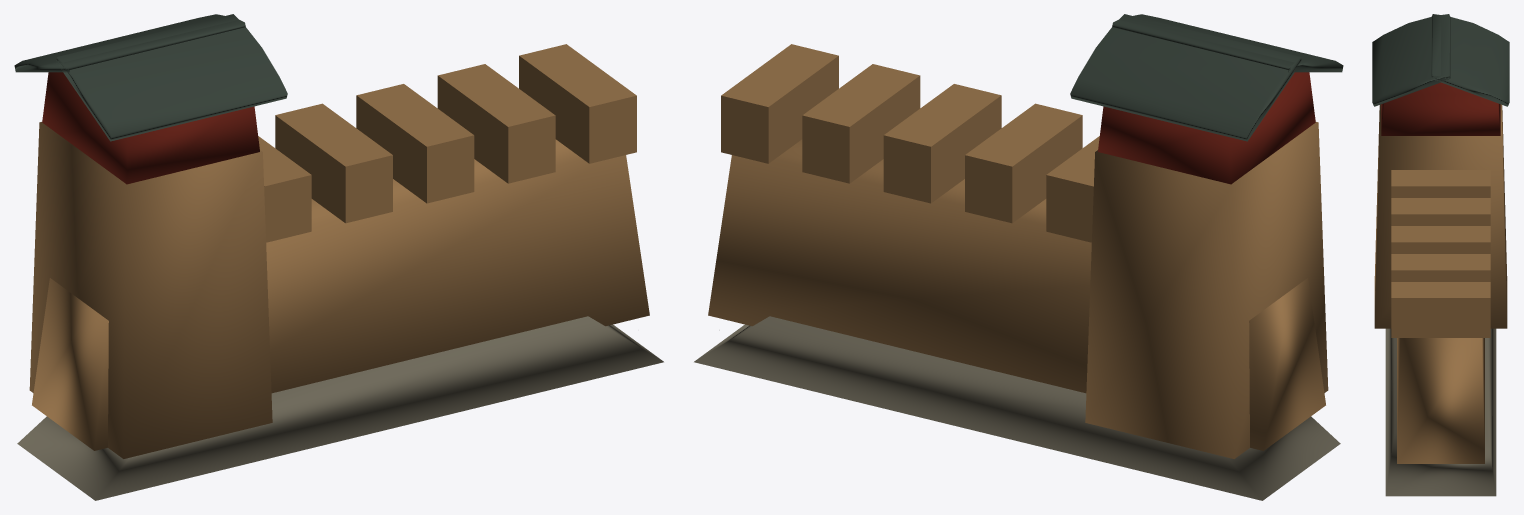
Rendered from R30_HAN_CITY_WALL_PRODUCTION_A.fbx.
The picture shows the model from 3 angles, left to right: view 1: azimuth 30°, elevation 25°; view 2: azimuth 150°, elevation 25°; view 3: azimuth 270°, elevation 25°; orthographic projection. The views are drawn at different scales.
Visible parts, largest first — view 1: wall_body, tower_body, foundation, tower_roof_back, tower_upper, merlon_2, merlon_3, merlon_1, merlon_4, merlon_5, tower_roof_front; view 2: wall_body, tower_body, foundation, tower_roof_front, tower_upper, merlon_2, merlon_3, merlon_1, merlon_4, merlon_5, tower_roof_back; view 3: wall_body, tower_body, foundation, merlon_1, tower_upper, tower_roof_back, tower_roof_front, merlon_2, merlon_3, merlon_4, merlon_5.
Part boxes in pixels (<box>): wall_body: <box>32,139,649,450</box>; tower_body: <box>29,122,272,458</box>; foundation: <box>17,316,663,500</box>; tower_roof_back: <box>56,14,287,141</box>; tower_upper: <box>42,72,259,184</box>; merlon_2: <box>437,64,555,183</box>; merlon_3: <box>356,84,474,203</box>; merlon_1: <box>519,44,636,163</box>; merlon_4: <box>275,103,392,223</box>; merlon_5: <box>258,136,311,242</box>; tower_roof_front: <box>14,14,245,72</box>; wall_body: <box>708,139,1325,450</box>; tower_body: <box>1085,122,1328,458</box>; foundation: <box>694,316,1340,500</box>; tower_roof_front: <box>1070,14,1301,141</box>; tower_upper: <box>1098,72,1315,184</box>; merlon_2: <box>802,64,920,183</box>; merlon_3: <box>883,84,1001,203</box>; merlon_1: <box>721,44,838,163</box>; merlon_4: <box>965,103,1082,223</box>; merlon_5: <box>1046,136,1099,242</box>; tower_roof_back: <box>1112,14,1343,72</box>; wall_body: <box>1397,338,1484,463</box>; tower_body: <box>1374,104,1507,328</box>; foundation: <box>1385,328,1496,496</box>; merlon_1: <box>1391,282,1490,337</box>; tower_upper: <box>1381,82,1500,135</box>; tower_roof_back: <box>1372,14,1450,106</box>; tower_roof_front: <box>1431,14,1509,106</box>; merlon_2: <box>1391,254,1490,281</box>; merlon_3: <box>1391,226,1490,253</box>; merlon_4: <box>1391,198,1490,225</box>; merlon_5: <box>1391,170,1490,197</box>.
Size of the model in its own units: 86 by 57.75 by 24.86.
